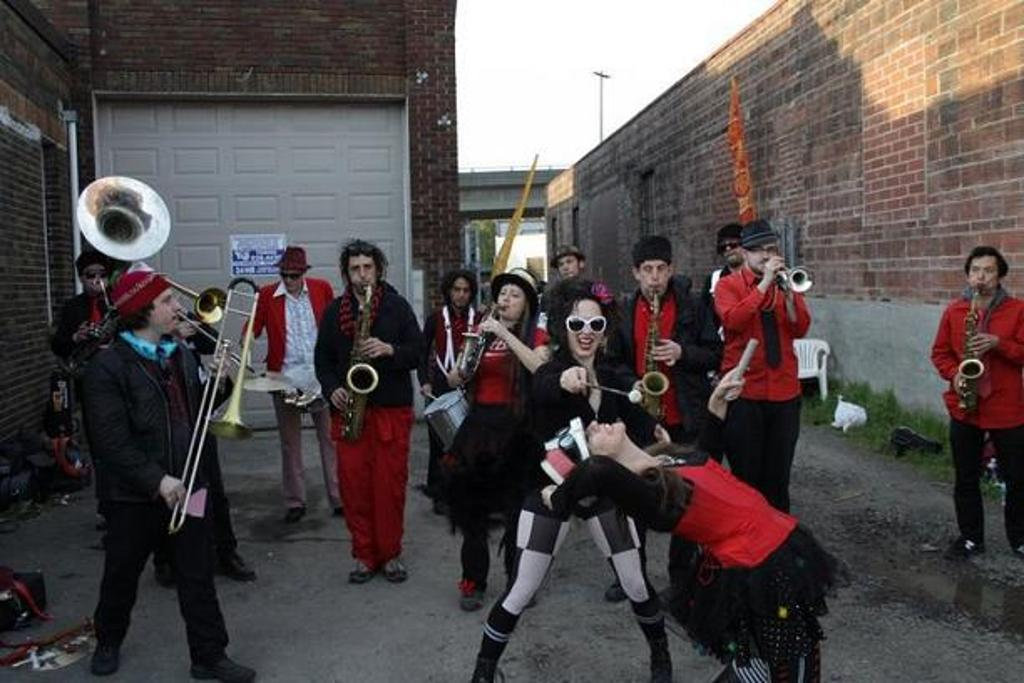face: (566, 299, 606, 359), (574, 420, 626, 455), (148, 288, 183, 331), (968, 256, 999, 297), (747, 238, 779, 275), (496, 282, 526, 321), (640, 255, 669, 295), (348, 256, 377, 293), (449, 276, 472, 310), (83, 263, 106, 291), (720, 237, 743, 264), (556, 255, 580, 280), (281, 266, 302, 293)
